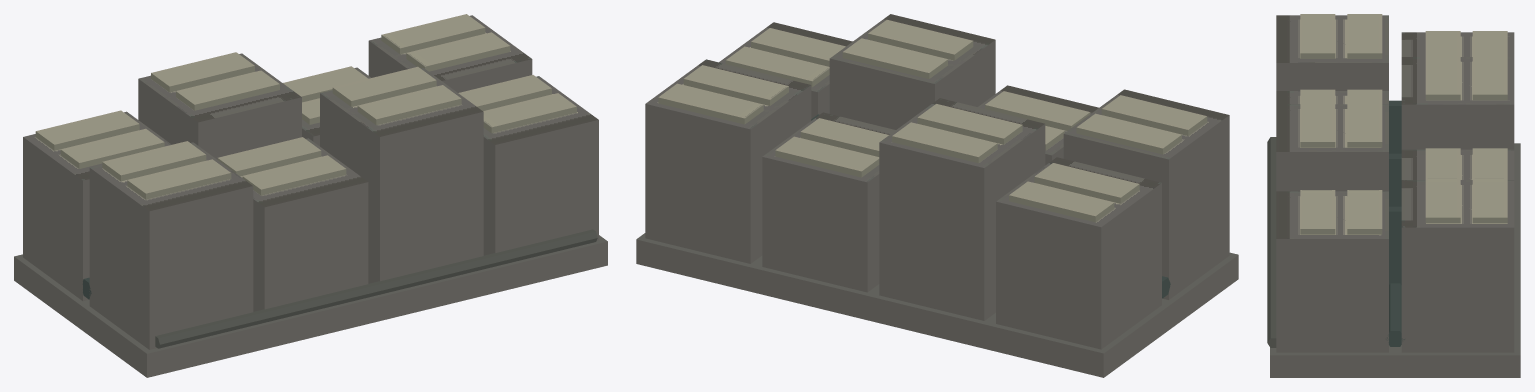
Rendered from Building_AncientEquipmentBlocks.glb.
3 views of the same model, side by side, from view 1: azimuth 30°, elevation 25°; view 2: azimuth 150°, elevation 25°; view 3: azimuth 270°, elevation 25° (orthographic). The views are drawn at different scales.
Visible parts, largest first — view 1: AncientEquipmentBlocks; view 2: AncientEquipmentBlocks; view 3: AncientEquipmentBlocks.
Boxes of the visible parts, bbox=[...] form: AncientEquipmentBlocks: bbox=[14, 14, 607, 377]; AncientEquipmentBlocks: bbox=[636, 14, 1238, 377]; AncientEquipmentBlocks: bbox=[1267, 14, 1520, 377].
Size of the model in its own units: 4 by 1.55 by 2.02.
Materials: 1 (1 with a texture image).
